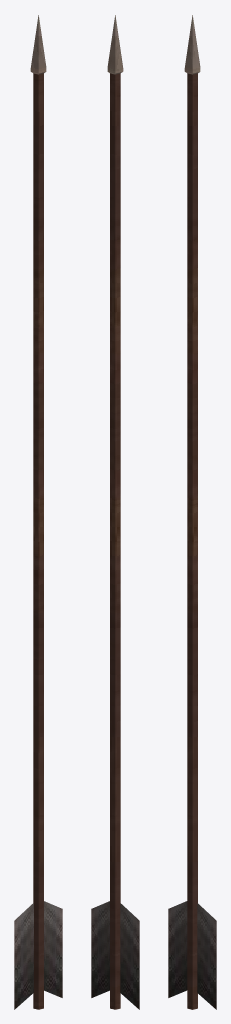
Rendered from field-arrow-clear.glb.
3 renders of one model, left to right at view 1: azimuth 30°, elevation 25°; view 2: azimuth 150°, elevation 25°; view 3: azimuth 330°, elevation 25°, orthographic.
Visible parts, largest first — view 1: field-arrow-clear runtime mesh; view 2: field-arrow-clear runtime mesh; view 3: field-arrow-clear runtime mesh.
Part boxes in pixels (<box>): field-arrow-clear runtime mesh: <box>14,15,62,1009</box>; field-arrow-clear runtime mesh: <box>91,15,139,1009</box>; field-arrow-clear runtime mesh: <box>168,15,216,1009</box>.
Bounding box in the file's own units: 0.0365 × 0.72 × 0.0103.
1 material, 1 textured.
